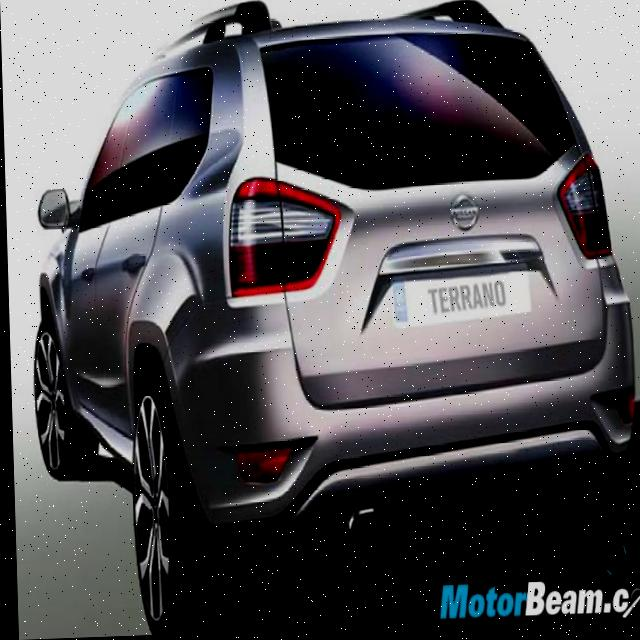plate: (389, 273, 528, 335)
